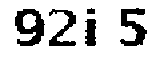2: (45, 6, 78, 51)
5: (115, 4, 152, 51)
9: (14, 8, 46, 48)
i: (82, 6, 103, 50)
